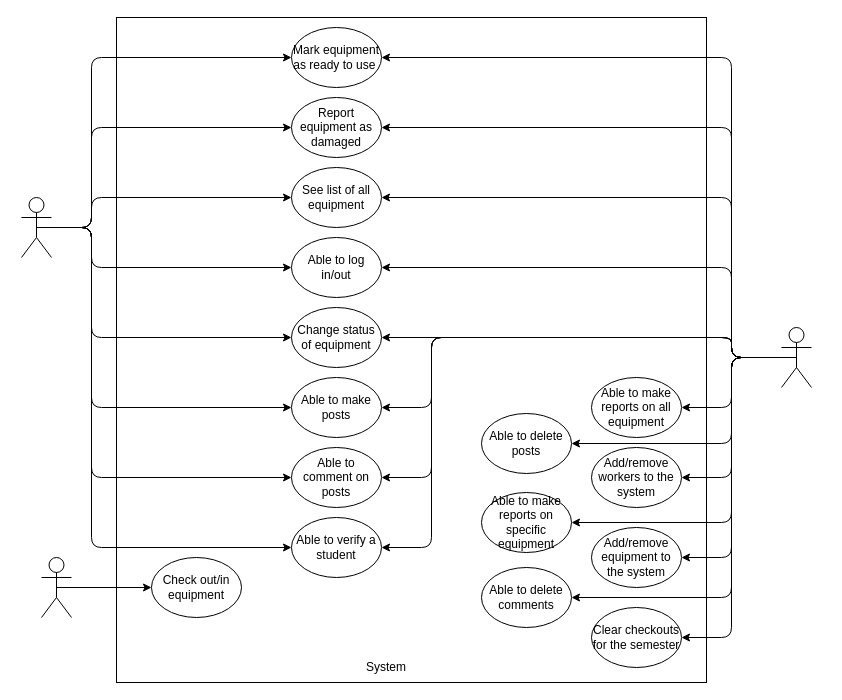
This 842x700 diagram has some shape labels left out. Here are the shapes that lost their labels. From the top down, the centre of each, then its label:
At (x=36, y=227): "Worker".
At (x=796, y=357): "Supervisor".
At (x=56, y=587): "Student".
